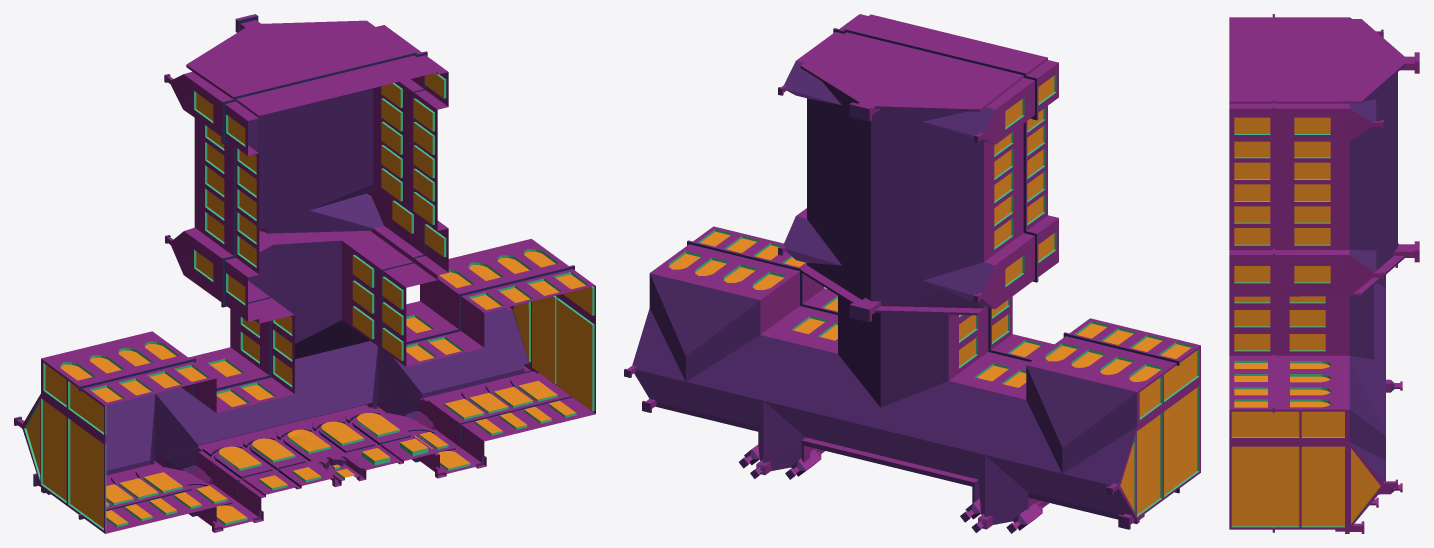
Rendered from Samochodówka cz.2 Tier 3.fbx.
The picture shows the model from 3 angles, left to right: view 1: azimuth 30°, elevation 25°; view 2: azimuth 150°, elevation 25°; view 3: azimuth 270°, elevation 25°; orthographic projection. The views are drawn at different scales.
Visible parts, largest first — view 1: samochodowka_cz2; view 2: samochodowka_cz2; view 3: samochodowka_cz2.
Boxes of the visible parts, box(x1,y1,x2,y2) form: samochodowka_cz2: box(14, 14, 595, 533); samochodowka_cz2: box(624, 14, 1200, 533); samochodowka_cz2: box(1229, 14, 1419, 533).
Size of the model in its own units: 4.06 by 3.26 by 1.44.
